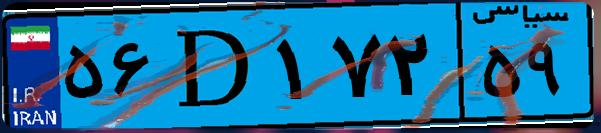1: (270, 28, 330, 110)
2: (385, 28, 445, 110)
5: (57, 26, 110, 100), (475, 38, 525, 113)
6: (110, 28, 158, 98)
7: (330, 28, 385, 110)
9: (525, 38, 570, 115)
D: (158, 12, 270, 120)
